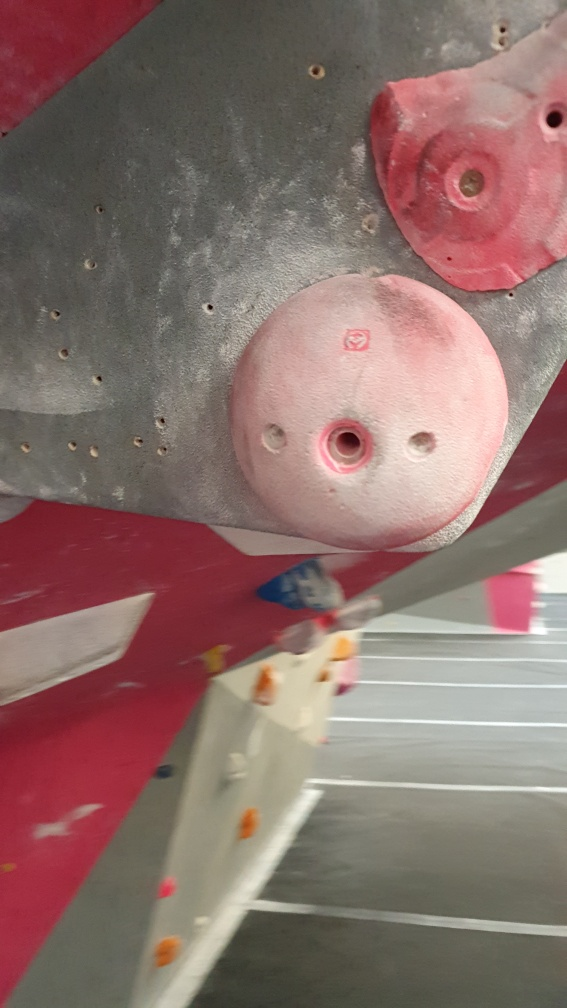Jug: (246, 556, 350, 616)
Pinch: (1, 588, 159, 713)
Sloper: (223, 269, 515, 557)
